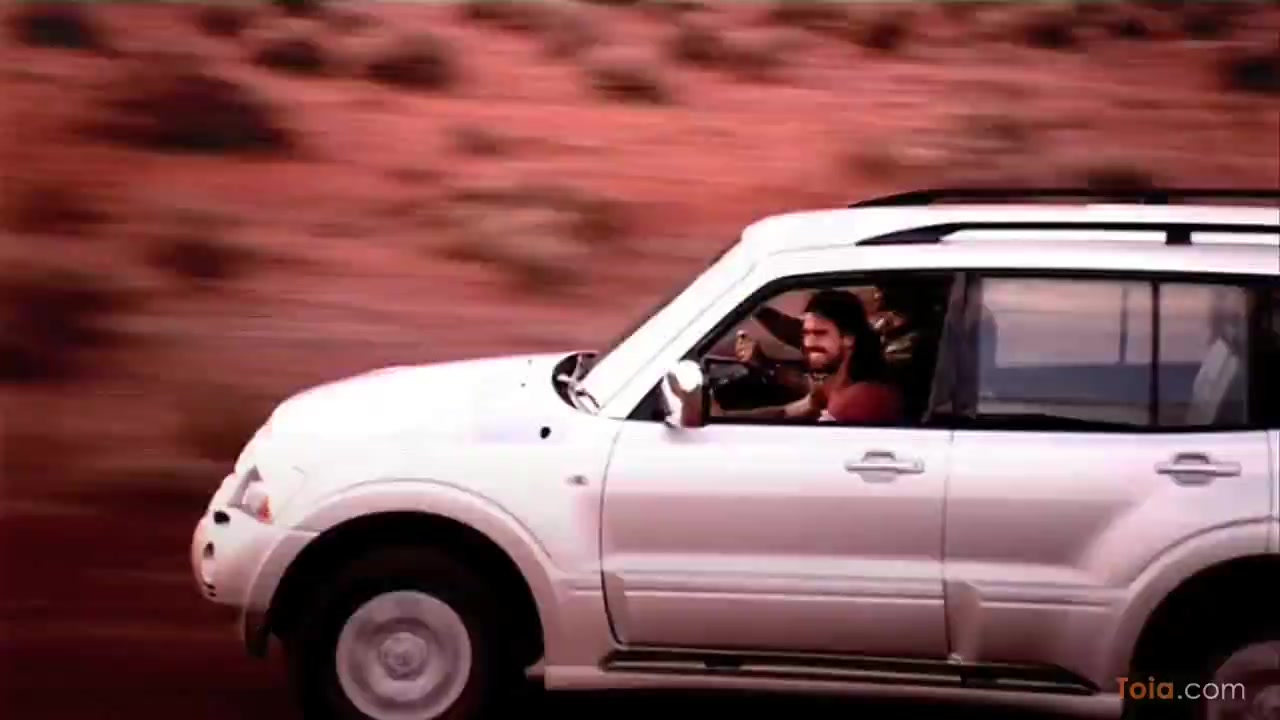car: (192, 189, 1280, 719)
